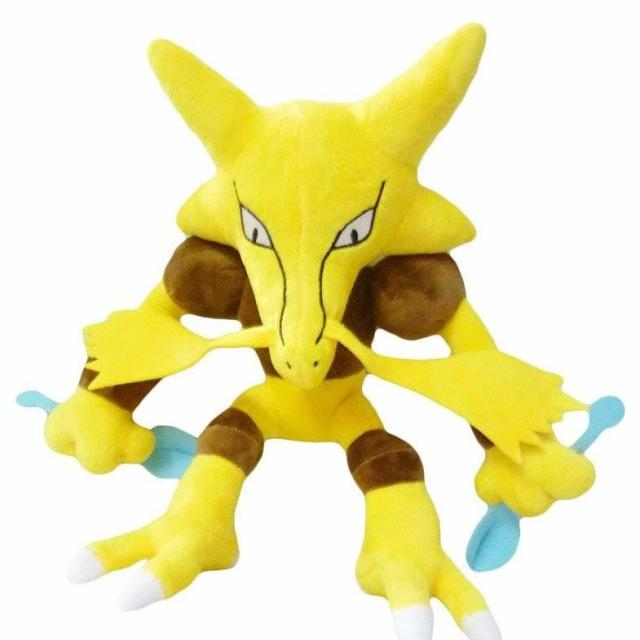Alakazam: (66, 34, 526, 616)
